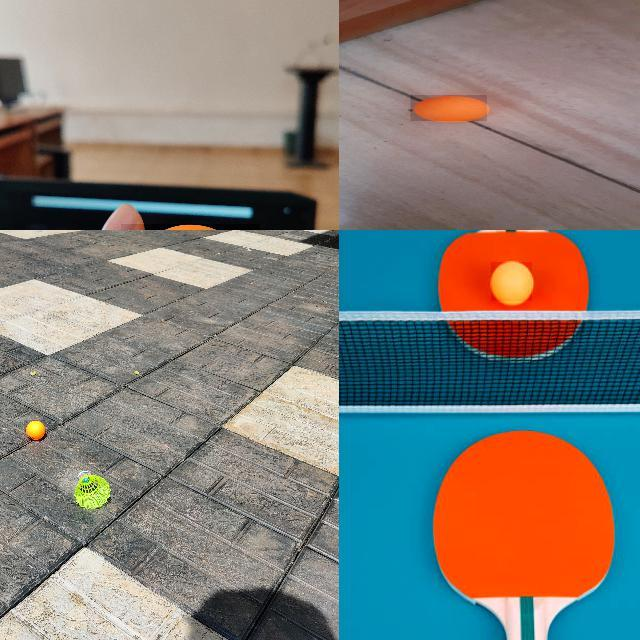ping-pong-ball: (410, 95, 488, 121), (491, 262, 533, 302), (24, 420, 46, 440)
